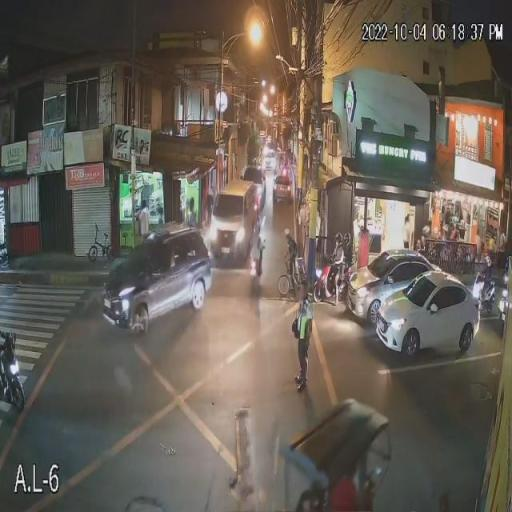helmet: (332, 230, 341, 240), (283, 227, 292, 236)
motorcycle: (0, 333, 26, 412), (311, 256, 348, 306), (470, 269, 501, 321), (248, 248, 265, 286), (499, 278, 511, 320)
rider: (327, 231, 351, 299), (475, 250, 496, 304), (249, 226, 266, 278)
